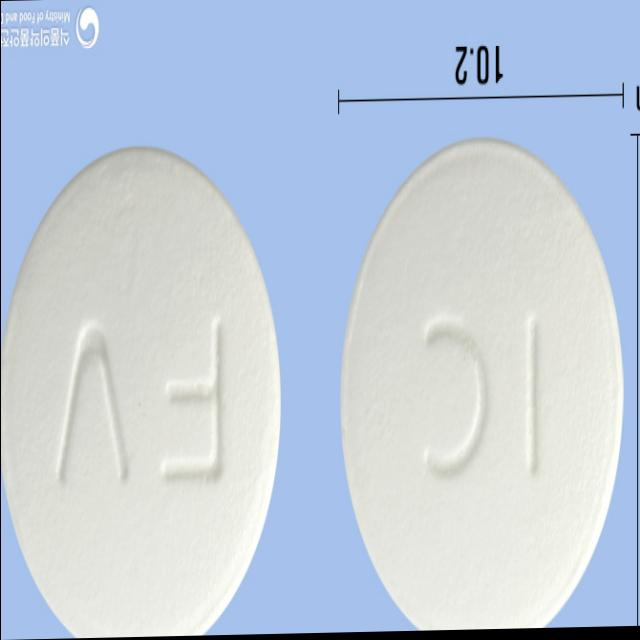Ciproctan: (340, 138, 623, 634), (0, 144, 279, 640)
